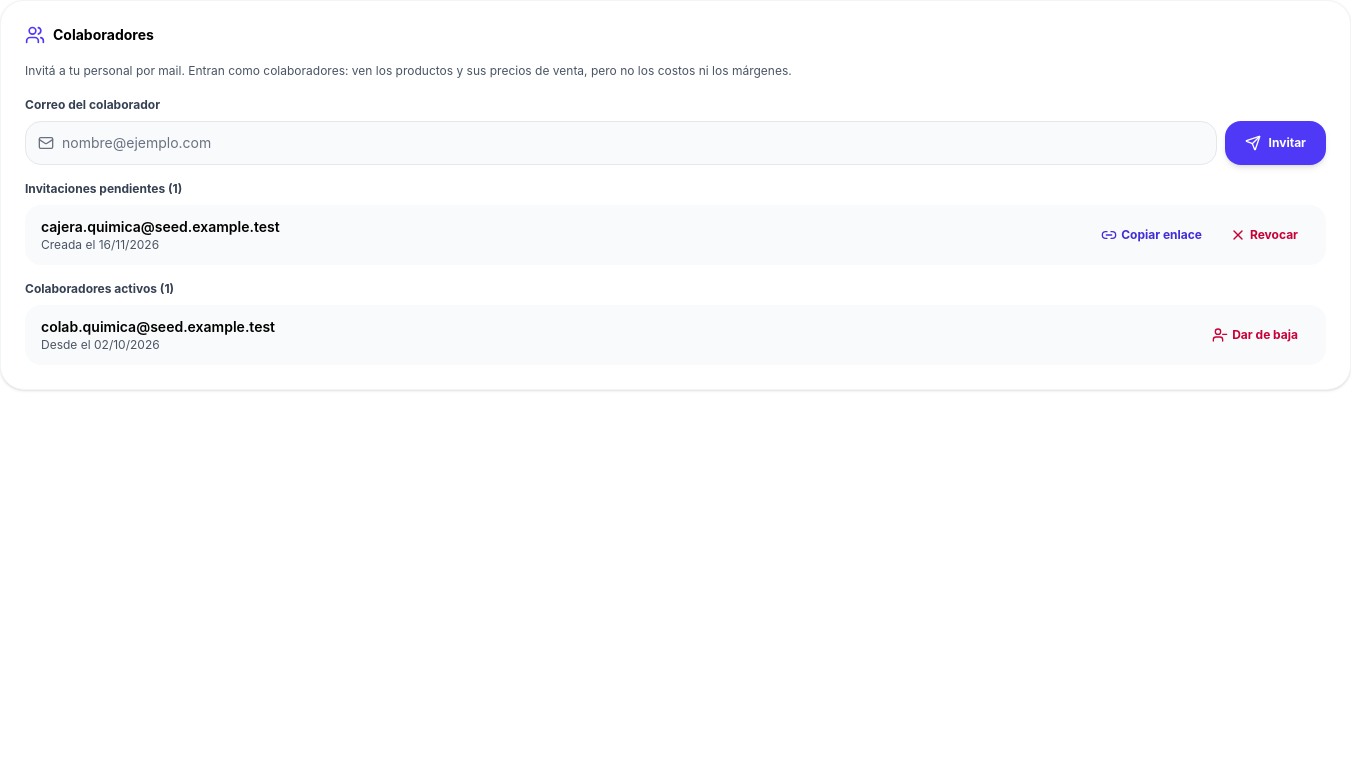
Test case: CollaboratorsSection (Perfil, solo ADMIN) › revoca una invitación después de confirmar
Later steps or results of the test are not shown.
Expected: the text "cajera.quimica@seed.example.test" is shown, [41,218,280,234]
Step 1. Click the button with aria-label "Revocar la invitación de cajera.quimica@seed.example.test" → coordinates (1264, 234), box [1218,212,1310,256]
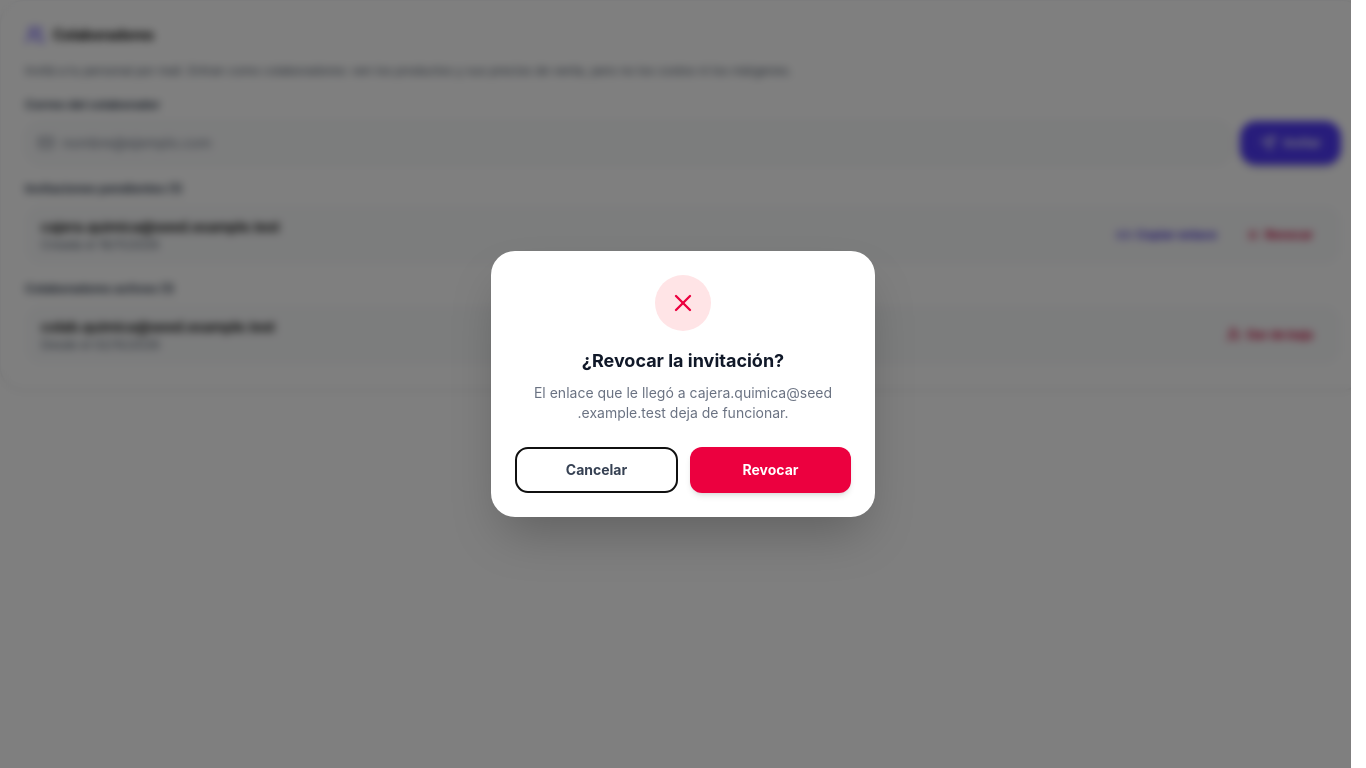
Expected: the heading "¿Revocar la invitación?" is shown, [582,350,784,371]
